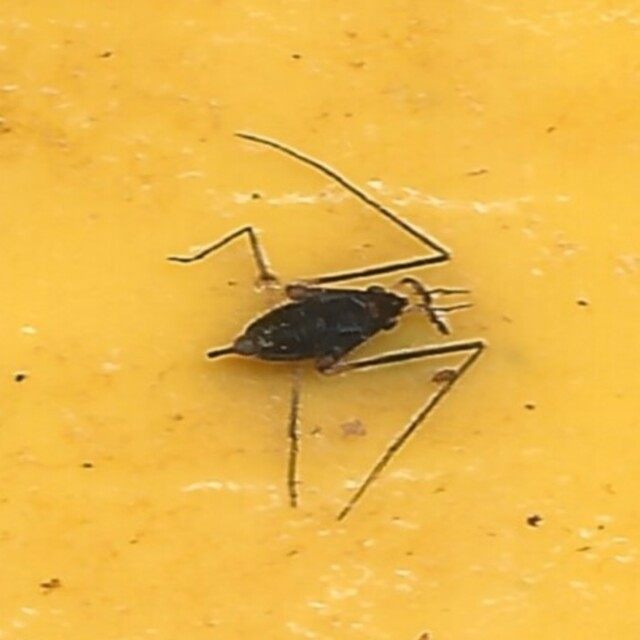Hemiptera: (162, 132, 481, 511), (159, 129, 478, 508)
